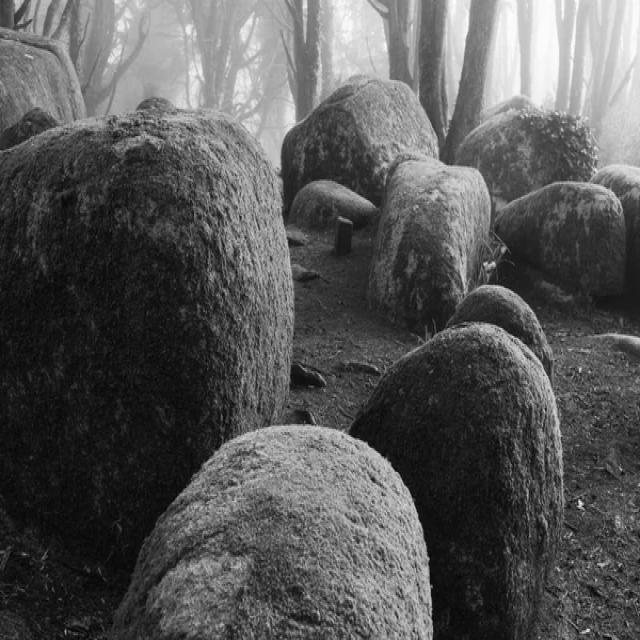Stone: (0, 113, 294, 566), (111, 427, 434, 640), (351, 323, 564, 640), (368, 156, 492, 334), (282, 74, 439, 212), (456, 109, 600, 220), (496, 182, 628, 296), (447, 286, 556, 385), (0, 26, 86, 132), (593, 166, 640, 297), (289, 179, 377, 228)
